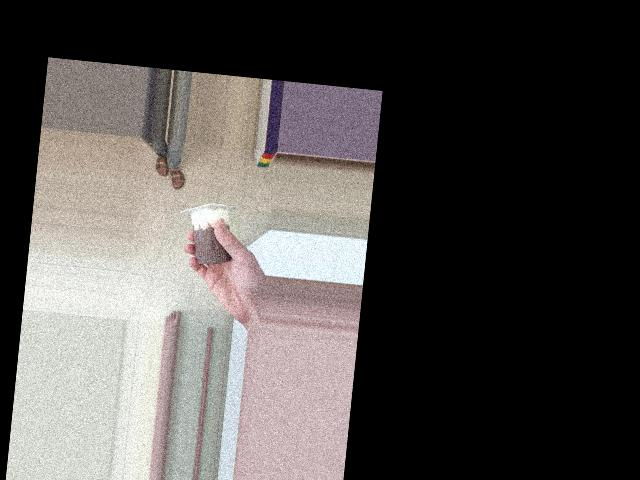milky: (180, 194, 238, 278)
